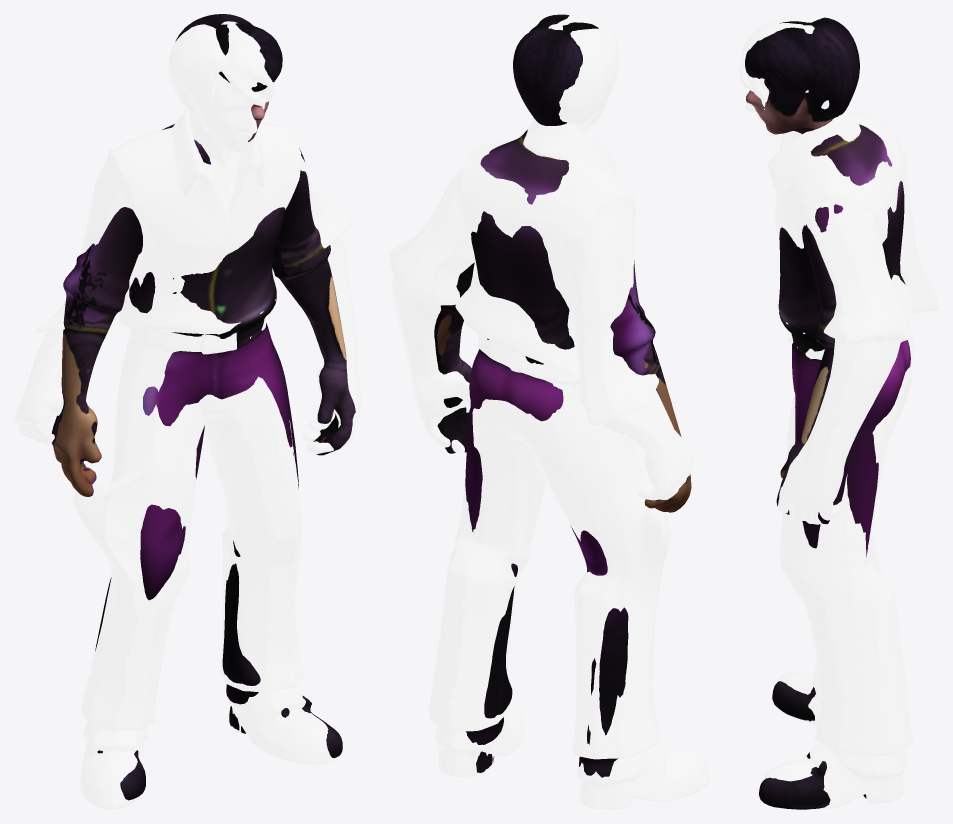
File: warlock_wrapped.glb
3 views of the same model, side by side, from view 1: azimuth 30°, elevation 25°; view 2: azimuth 150°, elevation 25°; view 3: azimuth 270°, elevation 25° (orthographic).
Visible parts, largest first — view 1: Outfit, Body; view 2: Outfit, Body; view 3: Outfit, Body.
Boxes of the visible parts, x1,y1,x2,y2 form: Outfit: (14,21,360,809); Body: (51,14,355,800); Outfit: (389,14,710,809); Body: (434,14,691,777); Outfit: (739,14,938,809); Body: (745,17,910,809).
Bounding box in the file's own units: 0.8099 × 1.85 × 0.4543.
2 materials, 1 textured.
